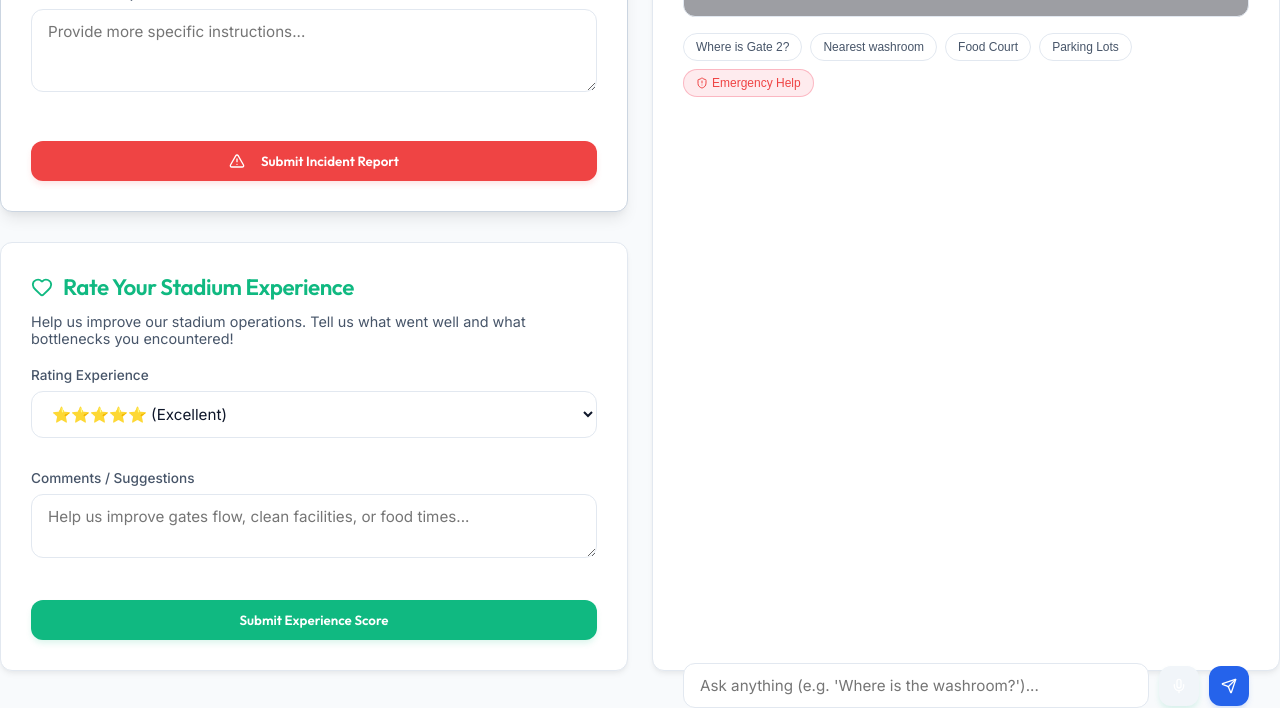
Test case: StadiumAssist Jest Test Suite › 1. FanAssistant Knowledge-Base Fallback Logic › returns generic Customer Help Hub fallback if no loose matches are found
(page scrolled)
// Query has random text with no matches in FAQ keywords
Type "random gibberish text query" into the field named "Chat input query" at x=916, y=686, box [683, 663, 1149, 707]
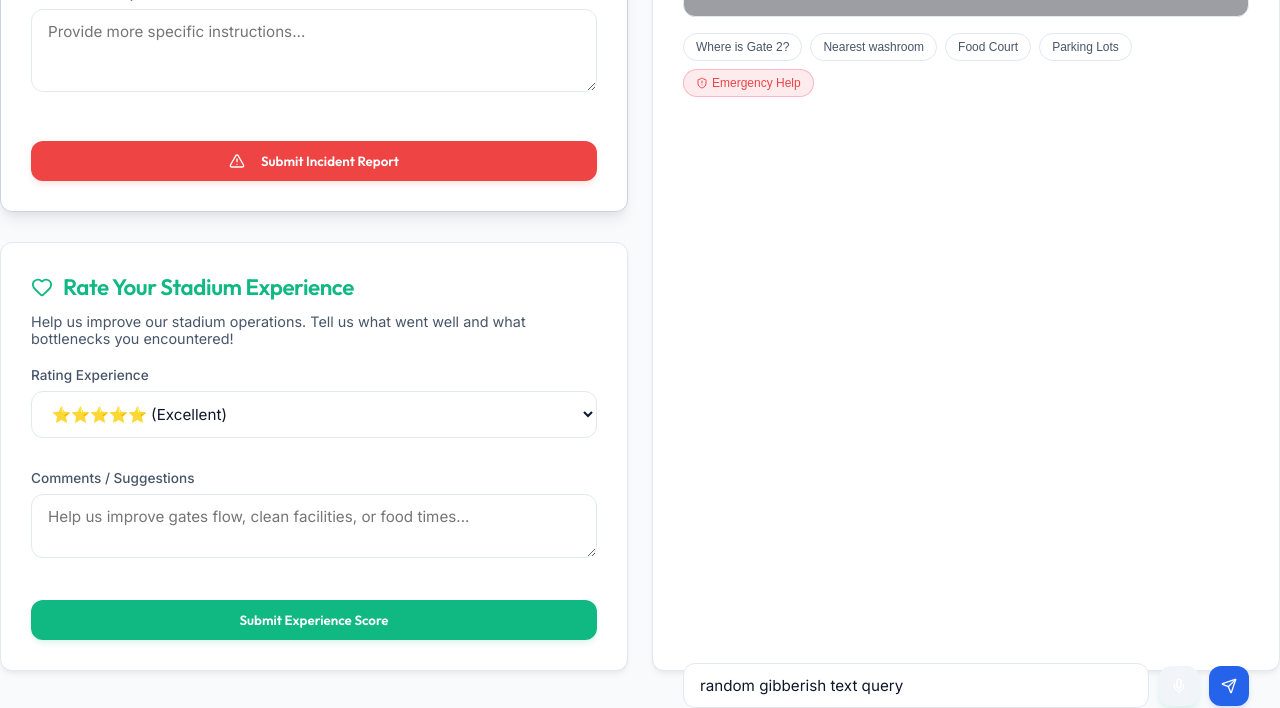
Click the button named "Send message" at x=1229, y=686, box [1209, 666, 1249, 706]
(page scrolled)
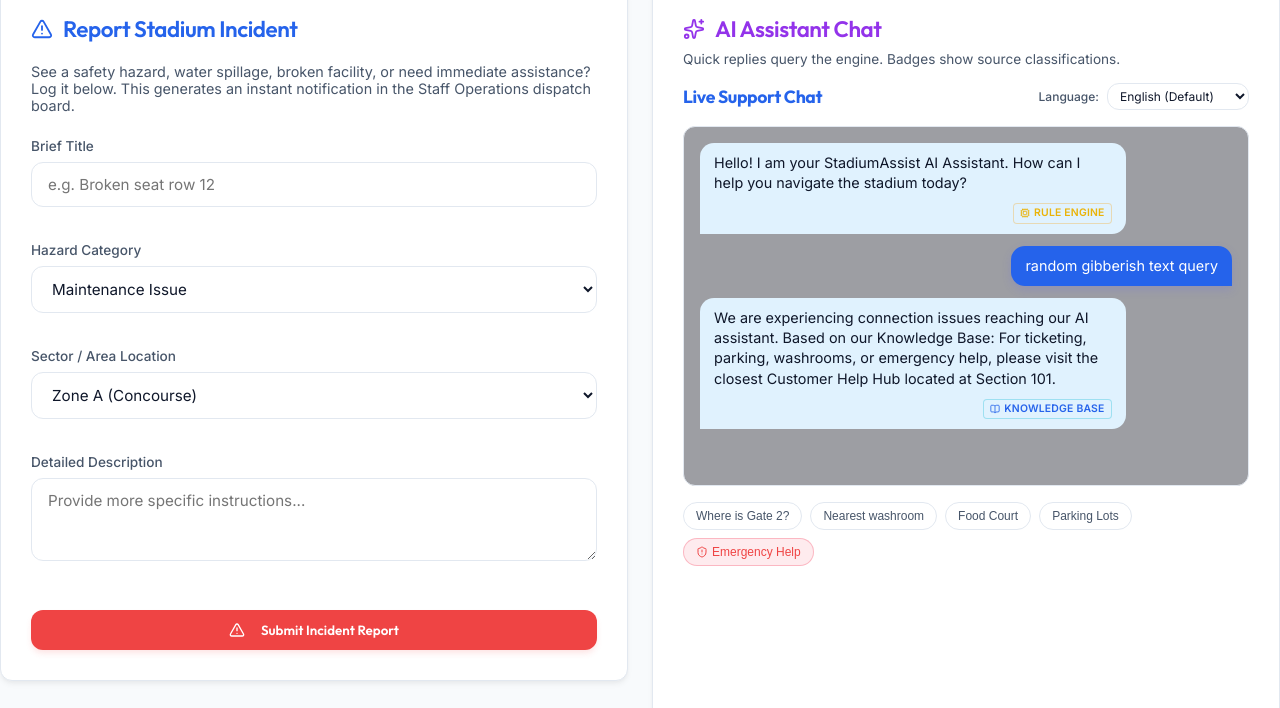
Check: the text "visit the closest Customer Help Hub located at Section 101" is shown, box [714, 309, 1098, 386]
